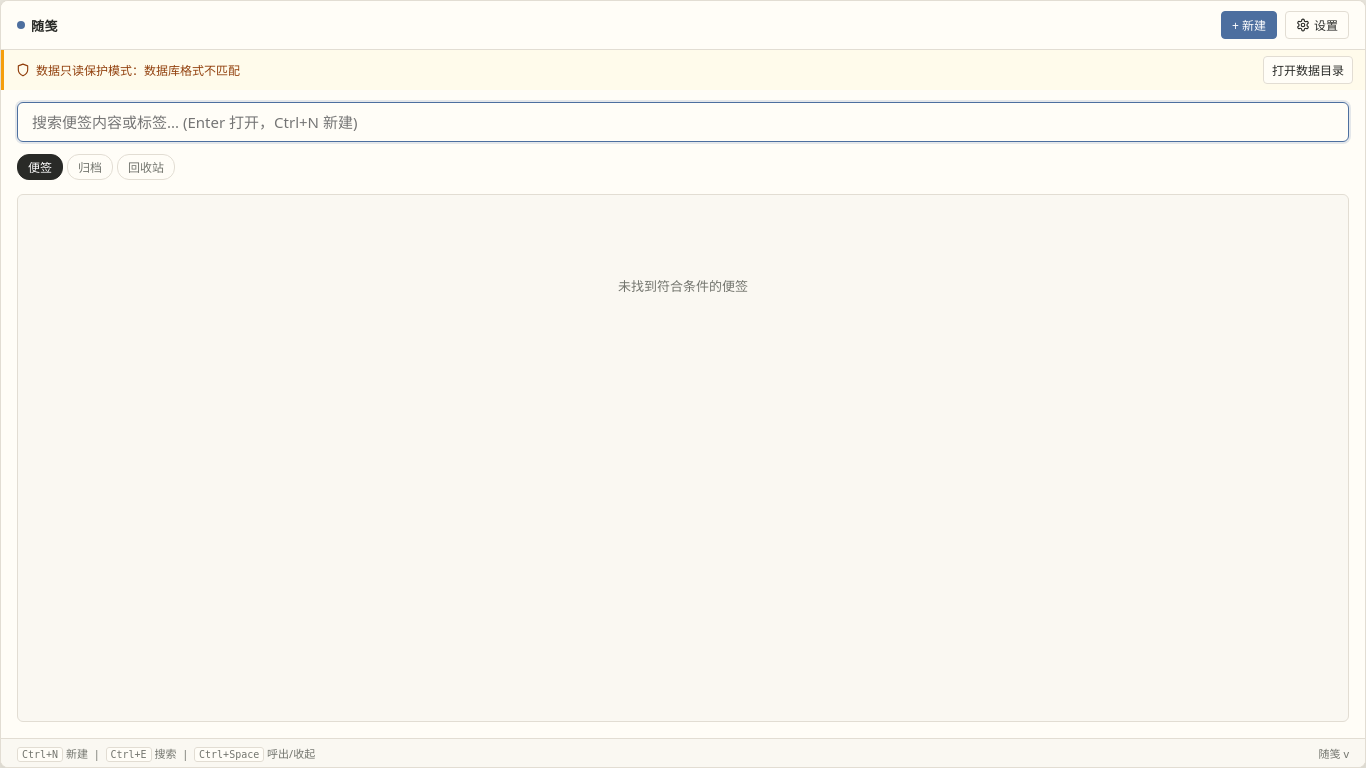
Test case: App Workflow & State Management › displays recovery banner and blocks note operations when in recovery mode
Expected: the text "数据只读保护模式：数据库格式不匹配" is shown, left=36, top=61, right=240, bottom=79
Click the button "+ 新建" at (1249, 25), box left=1221, top=11, right=1277, bottom=39
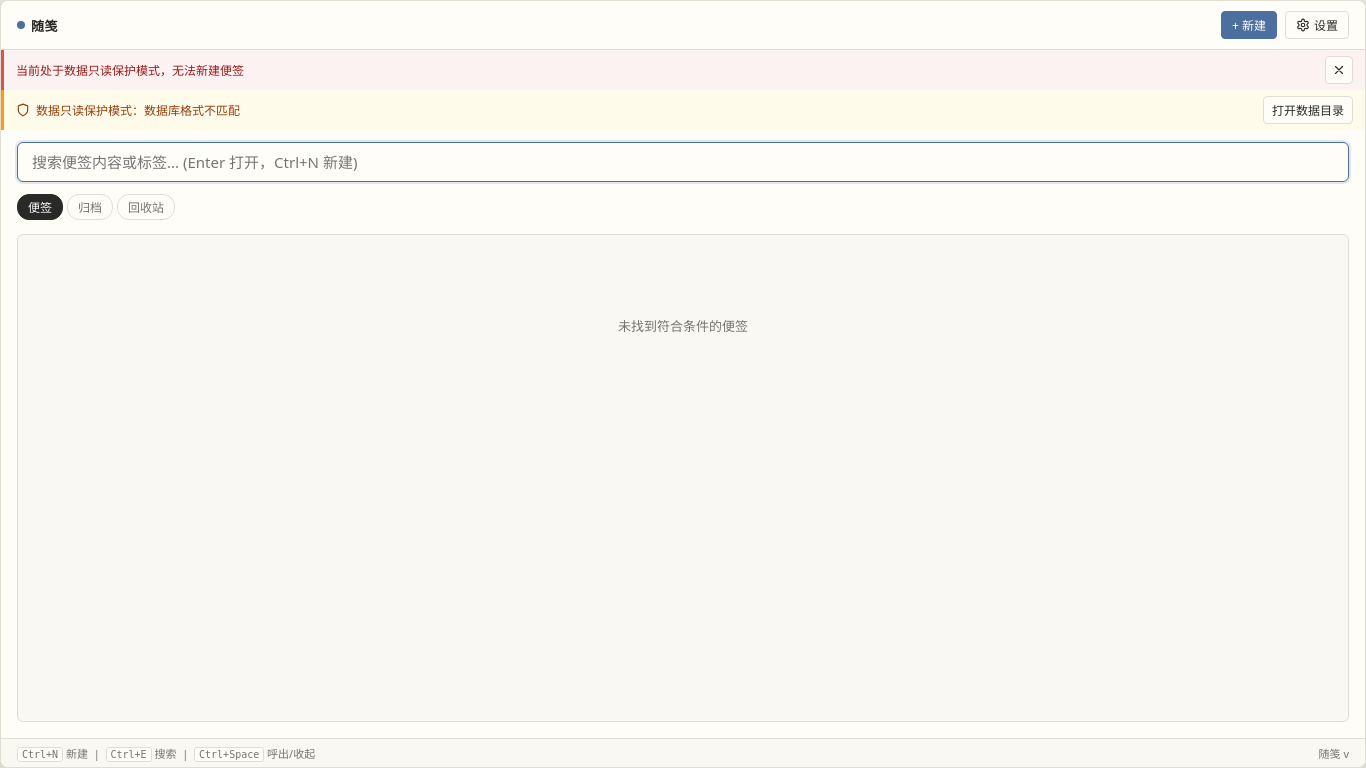
Expected: the text "当前处于数据只读保护模式，无法新建便签" is shown, left=16, top=61, right=244, bottom=79
